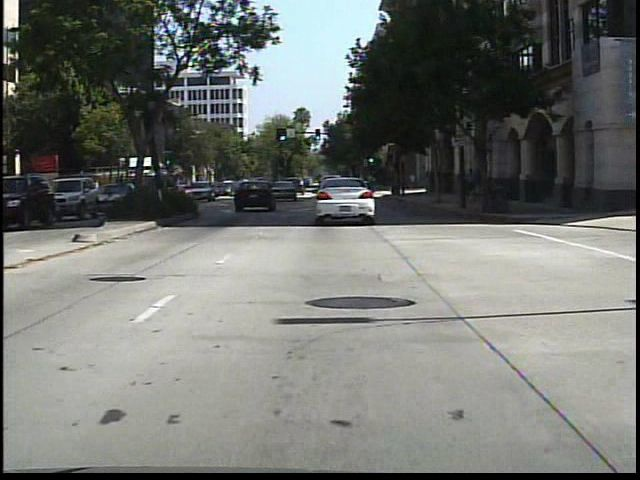person: (465, 164, 483, 206)
